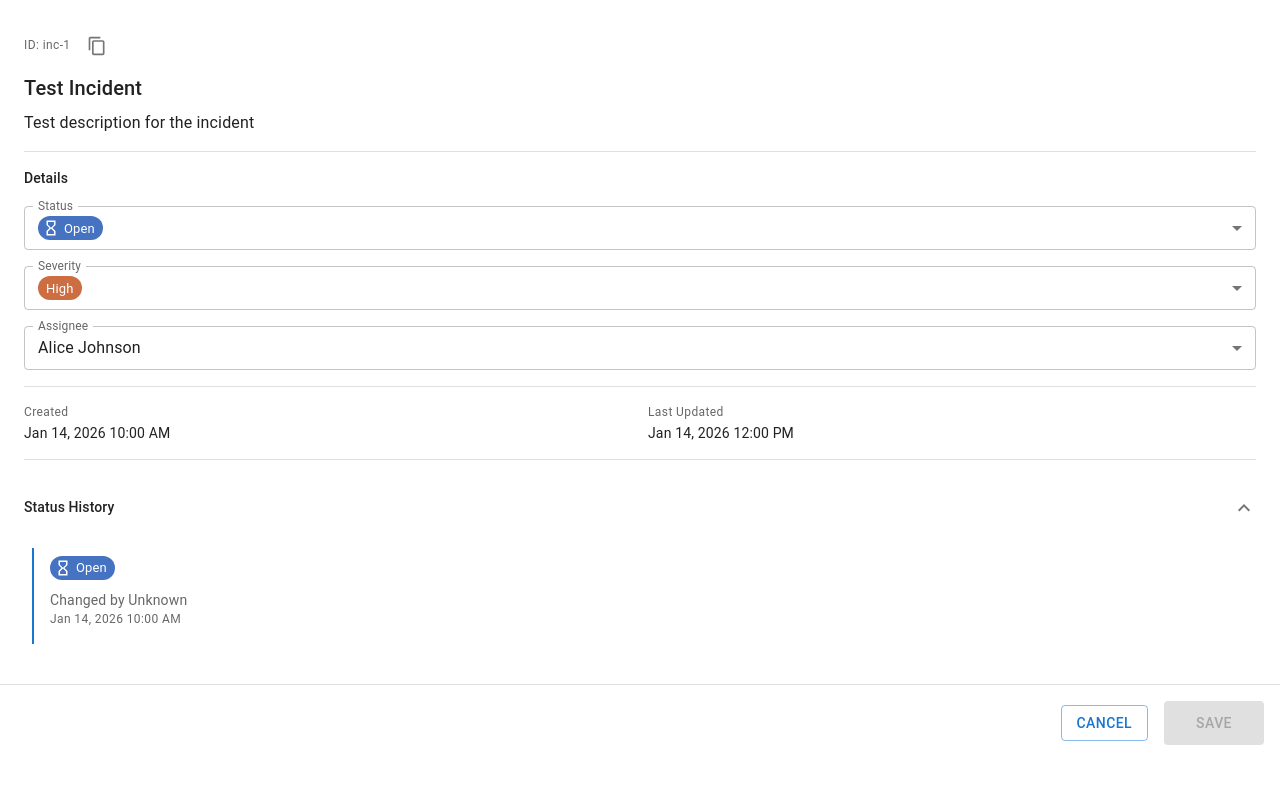
it: IncidentDetailForm › layout structure › displays severity chip in severity dropdown (FR-013)
// Click to open dropdown
Step 1. Click the dropdown named "severity" → (60,288), box [38,276,82,300]
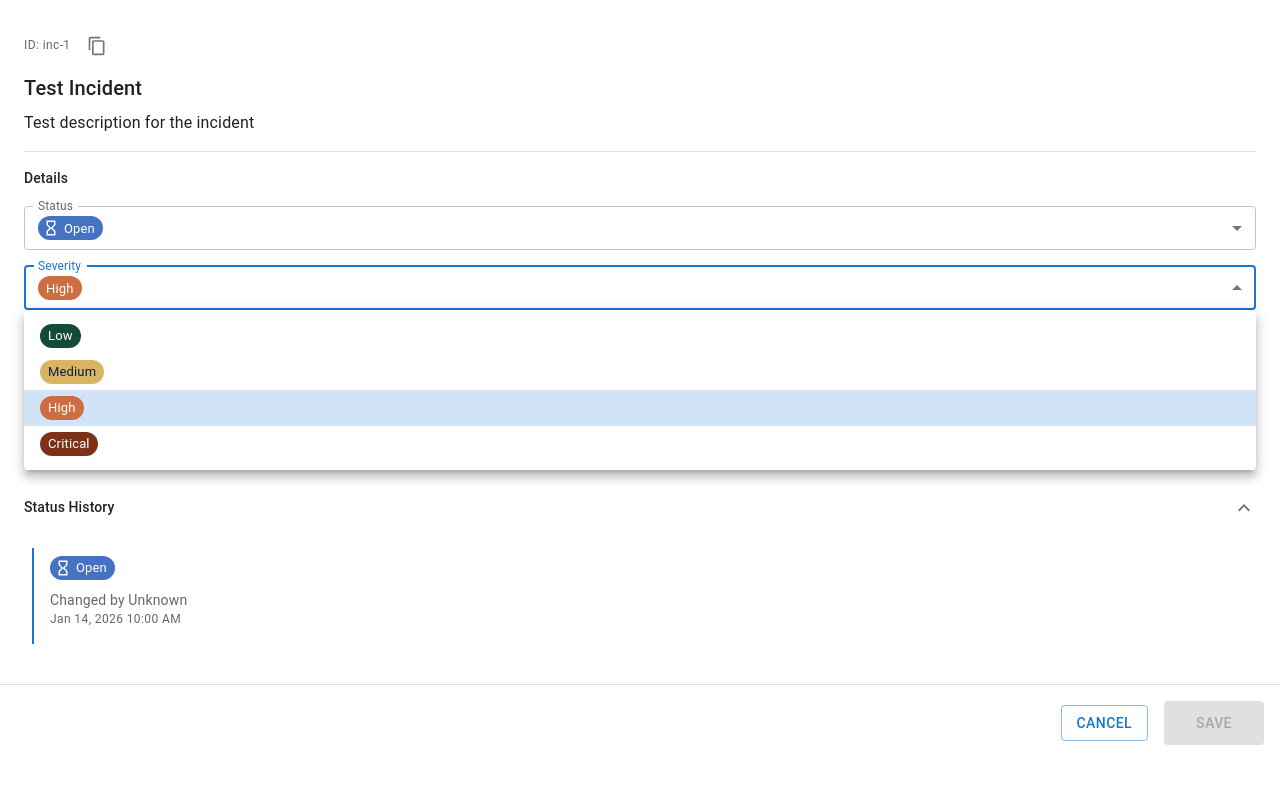
Check: the option "High" is shown, box [24,390,1256,426]
